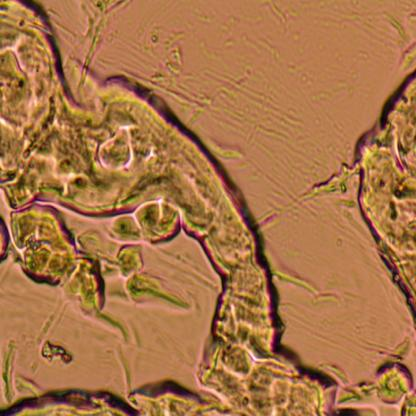Normal: (0, 0, 126, 359), (165, 112, 297, 416)
